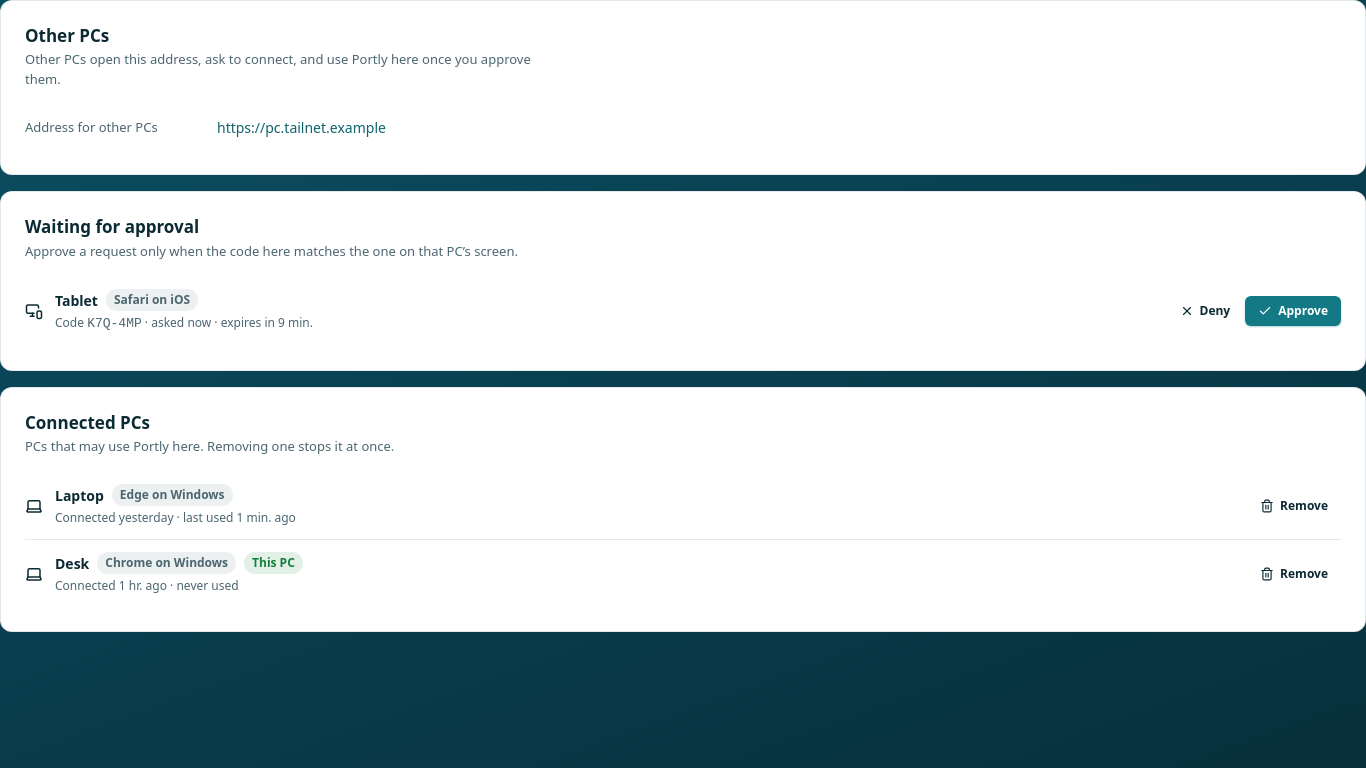
Test case: Devices settings › says so when a request cannot be approved
The image size is (1366, 768).
Click the button with aria-label "Approve Tablet" at (1293, 311), box x1=1245 y1=296 x2=1341 y2=326
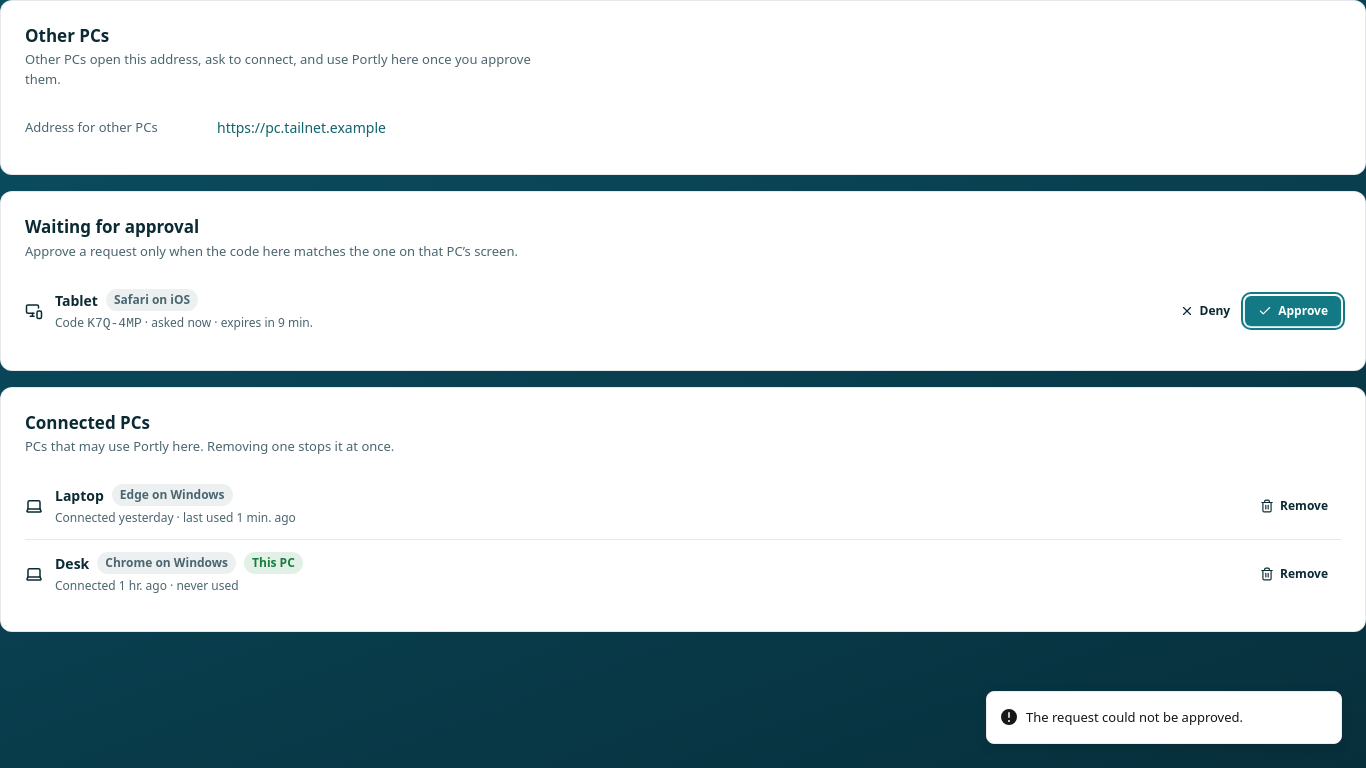
Now the text "The request could not be approved." is shown, box x1=1026 y1=708 x2=1243 y2=727
